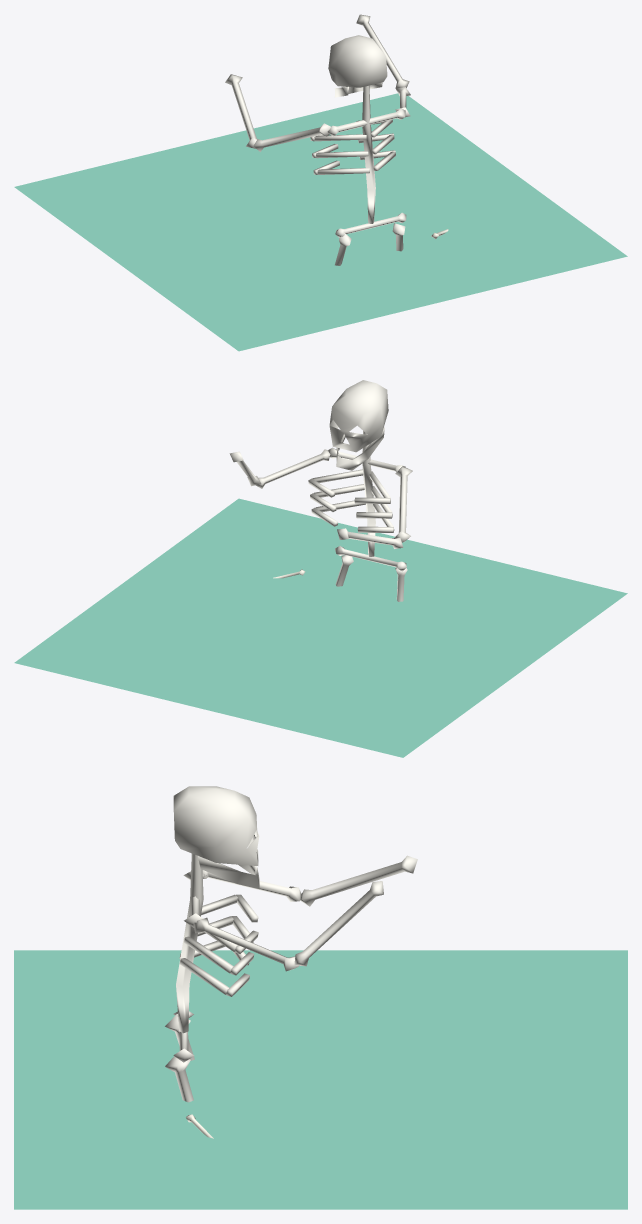
File: piegeSquelette.dae
3 views of the same model, one above another, from view 1: azimuth 30°, elevation 25°; view 2: azimuth 150°, elevation 25°; view 3: azimuth 270°, elevation 25° (orthographic). The views are drawn at different scales.
Visible parts, largest first — view 1: solPiege_004; view 2: solPiege_004; view 3: solPiege_004.
Boxes of the visible parts, <box> form: solPiege_004: <box>14,14,627,351</box>; solPiege_004: <box>14,380,627,757</box>; solPiege_004: <box>14,786,627,1209</box>.
Size of the model in its own units: 10.3 by 10.3 by 6.89.
